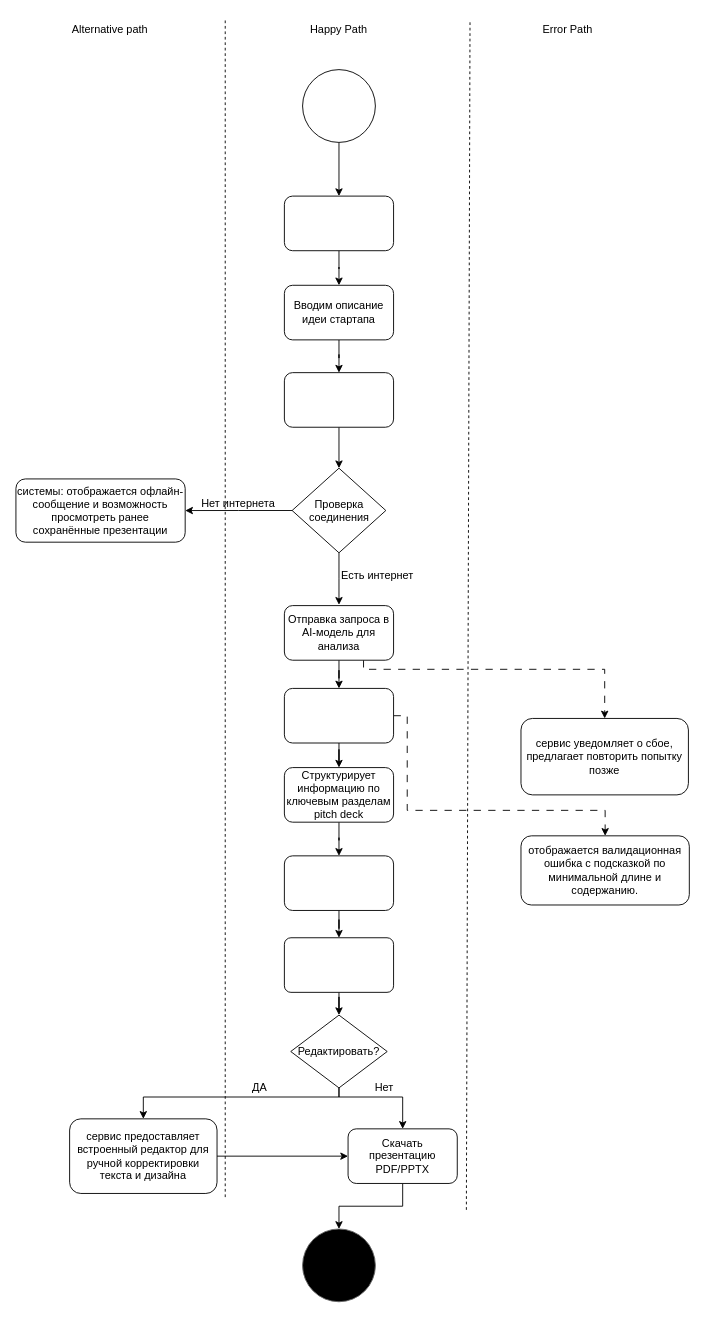
Some shapes in this 705 by 1318 pixel diagram are drawn without their labels. The centre of each missing label's shape, as x and y in pixels:
Нажимаем "Сгенерировать": (338,399)
Показ итогового варианта: (338,964)
Пользователь нажимает "Создать презинтацию": (338,223)
Производит проверку входных данных: (338,715)
Система генерирует слайды с готовым дизайном: (338,882)
